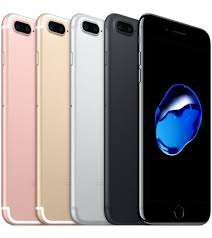iphone: (136, 13, 212, 225)
iphone8: (136, 11, 212, 223)
